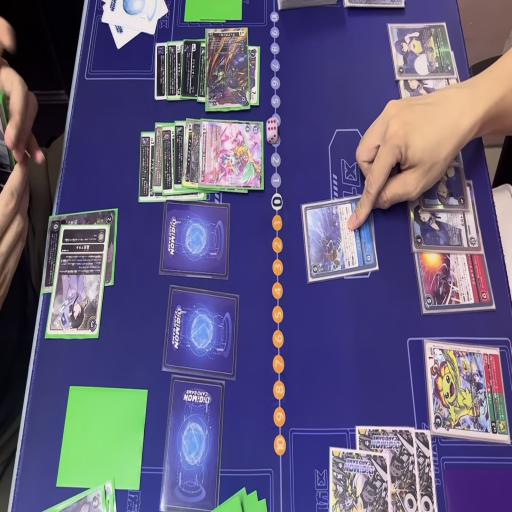card: (422, 337, 512, 444), (47, 226, 108, 346), (298, 196, 378, 286), (42, 208, 122, 292), (196, 120, 266, 196), (410, 179, 478, 253), (414, 250, 492, 313), (388, 18, 455, 83), (205, 24, 252, 116), (196, 44, 262, 104), (398, 72, 464, 119), (420, 153, 469, 213), (50, 483, 107, 512), (181, 117, 202, 194), (136, 122, 154, 206), (180, 34, 202, 102), (165, 33, 185, 103), (160, 122, 177, 197), (150, 116, 165, 197), (170, 112, 185, 188), (153, 40, 170, 105)
